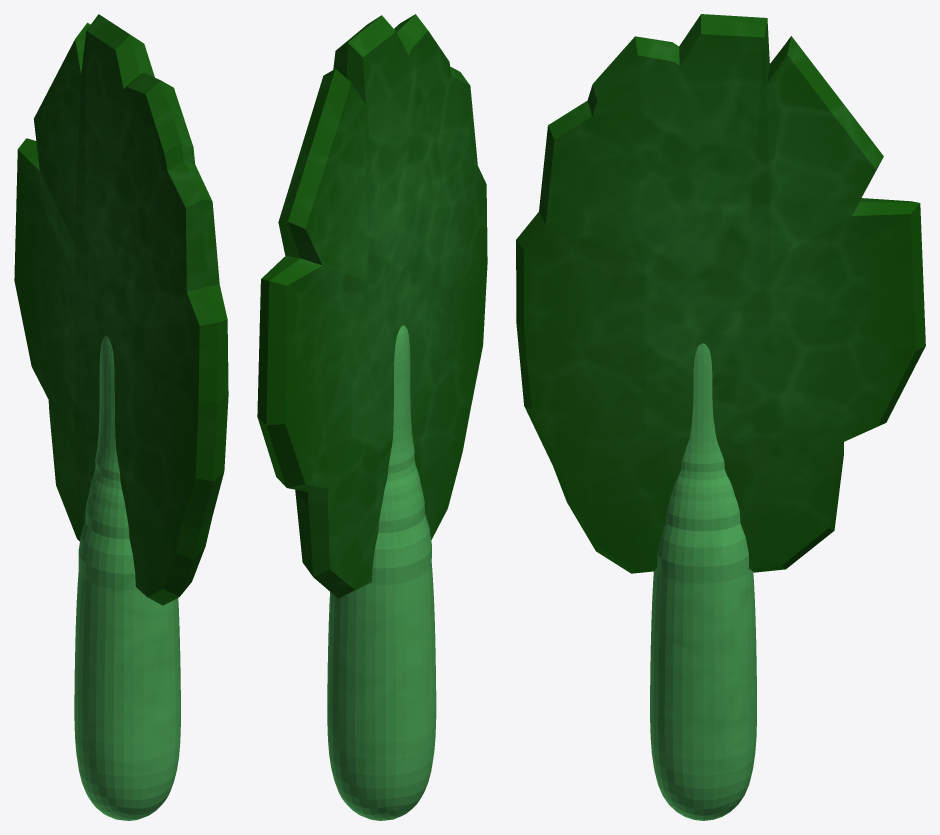
File: Mustasa.glb
3 views of the same model, side by side, from view 1: azimuth 30°, elevation 25°; view 2: azimuth 150°, elevation 25°; view 3: azimuth 270°, elevation 25° (orthographic). The views are drawn at different scales.
Parts seen in each view (by area): view 1: Mustasa; view 2: Mustasa; view 3: Mustasa.
Part boxes in pixels (bbox=[...]): Mustasa: bbox=[14, 14, 228, 820]; Mustasa: bbox=[257, 14, 487, 820]; Mustasa: bbox=[516, 14, 925, 820].
Size of the model in its own units: 0.8078 by 6.68 by 3.09.
Materials: 1 (1 with a texture image).
